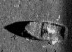ship: (22, 20, 69, 43)
